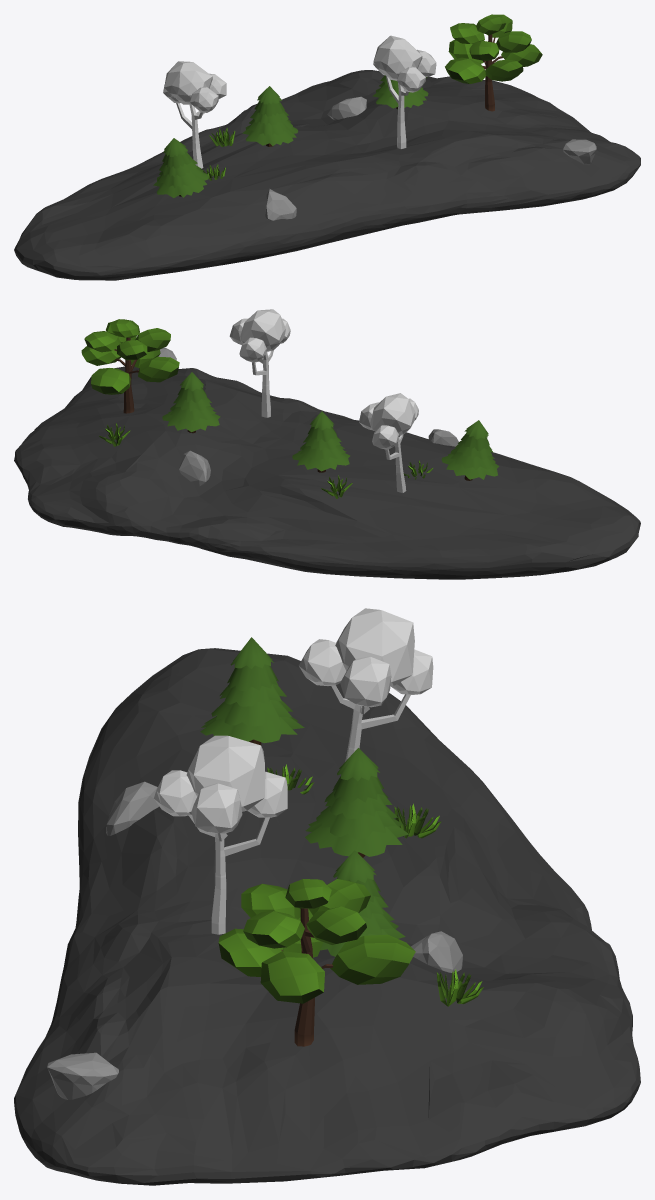
The model's file is Saari3.fbx.
3 renders of one model, top to bottom at view 1: azimuth 30°, elevation 25°; view 2: azimuth 150°, elevation 25°; view 3: azimuth 270°, elevation 25°, orthographic. The views are drawn at different scales.
Visible parts, largest first — view 1: Icosphere.003; view 2: Icosphere.003; view 3: Icosphere.003.
Boxes of the visible parts, x1=… form: Icosphere.003: x1=14, y1=14, x2=640, y2=280; Icosphere.003: x1=14, y1=309, x2=640, y2=579; Icosphere.003: x1=14, y1=608, x2=640, y2=1185.
Size of the model in its own units: 6389 by 1745 by 3350.
